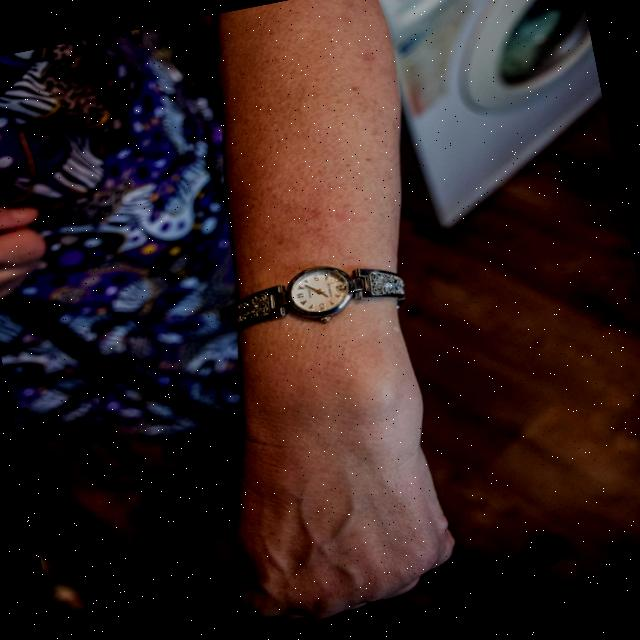Wrist watch: (224, 251, 410, 343)
